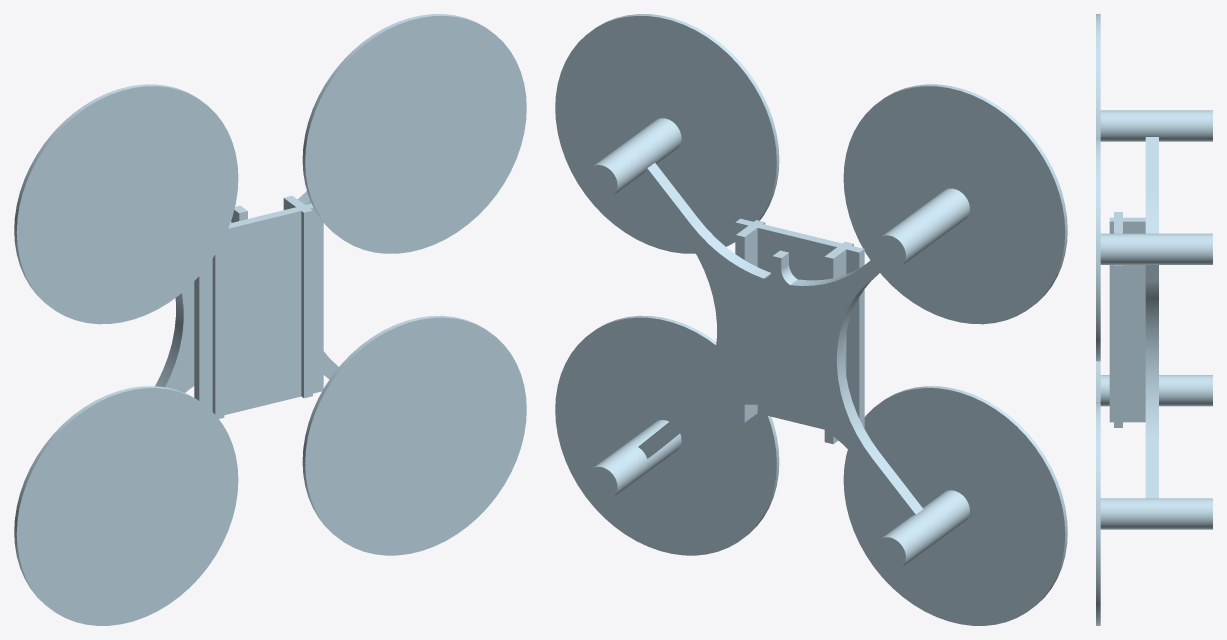
Rendered from CrazyFlie_LightHouse.gltf.
3 renders of one model, left to right at view 1: azimuth 30°, elevation 25°; view 2: azimuth 150°, elevation 25°; view 3: azimuth 270°, elevation 25°, orthographic. The views are drawn at different scales.
Visible parts, largest first — view 1: CrazyFlie Base; view 2: CrazyFlie Base; view 3: CrazyFlie Base.
Boxes of the visible parts, bbox=[...] form: CrazyFlie Base: bbox=[14, 14, 526, 625]; CrazyFlie Base: bbox=[555, 14, 1067, 625]; CrazyFlie Base: bbox=[1096, 14, 1212, 625].
Size of the model in its own units: 0.1151 by 0.115 by 0.026.
